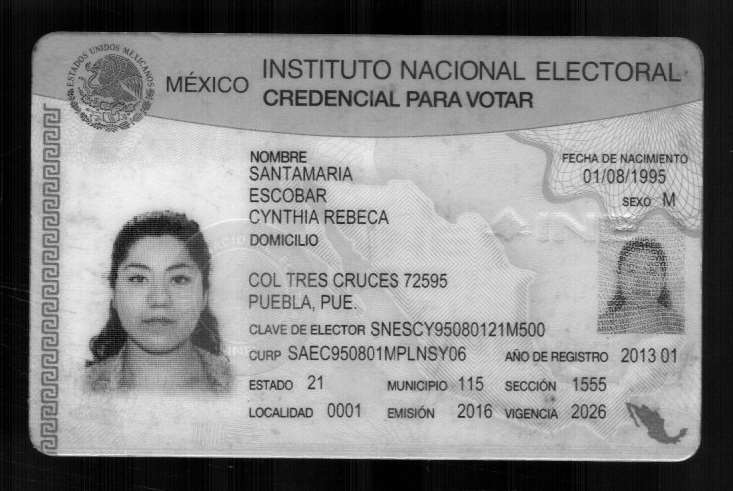ESCUDO: (67, 44, 155, 132)
MAPA: (626, 402, 688, 443)
PALABRA: (536, 60, 681, 82)
